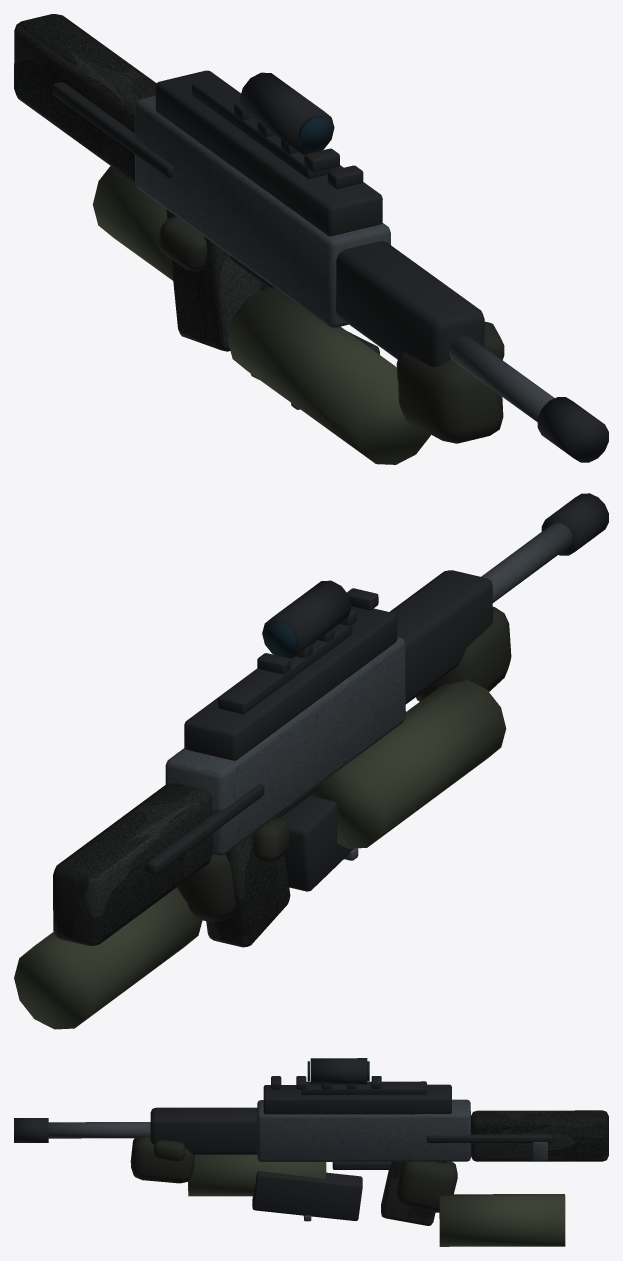
Rendered from weapon_mp5.glb.
The picture shows the model from 3 angles, top to bottom: view 1: azimuth 30°, elevation 25°; view 2: azimuth 150°, elevation 25°; view 3: azimuth 270°, elevation 25°; orthographic projection. The views are drawn at different scales.
Visible parts, largest first — view 1: WeaponMesh; view 2: WeaponMesh; view 3: WeaponMesh.
Boxes of the visible parts, x1=… form: WeaponMesh: x1=14, y1=14, x2=608, y2=464; WeaponMesh: x1=14, y1=493, x2=608, y2=1029; WeaponMesh: x1=14, y1=1058, x2=608, y2=1246.
Bounding box in the file's own units: 0.1707 × 0.2984 × 0.9477.
Materials: 6 (2 with a texture image).
